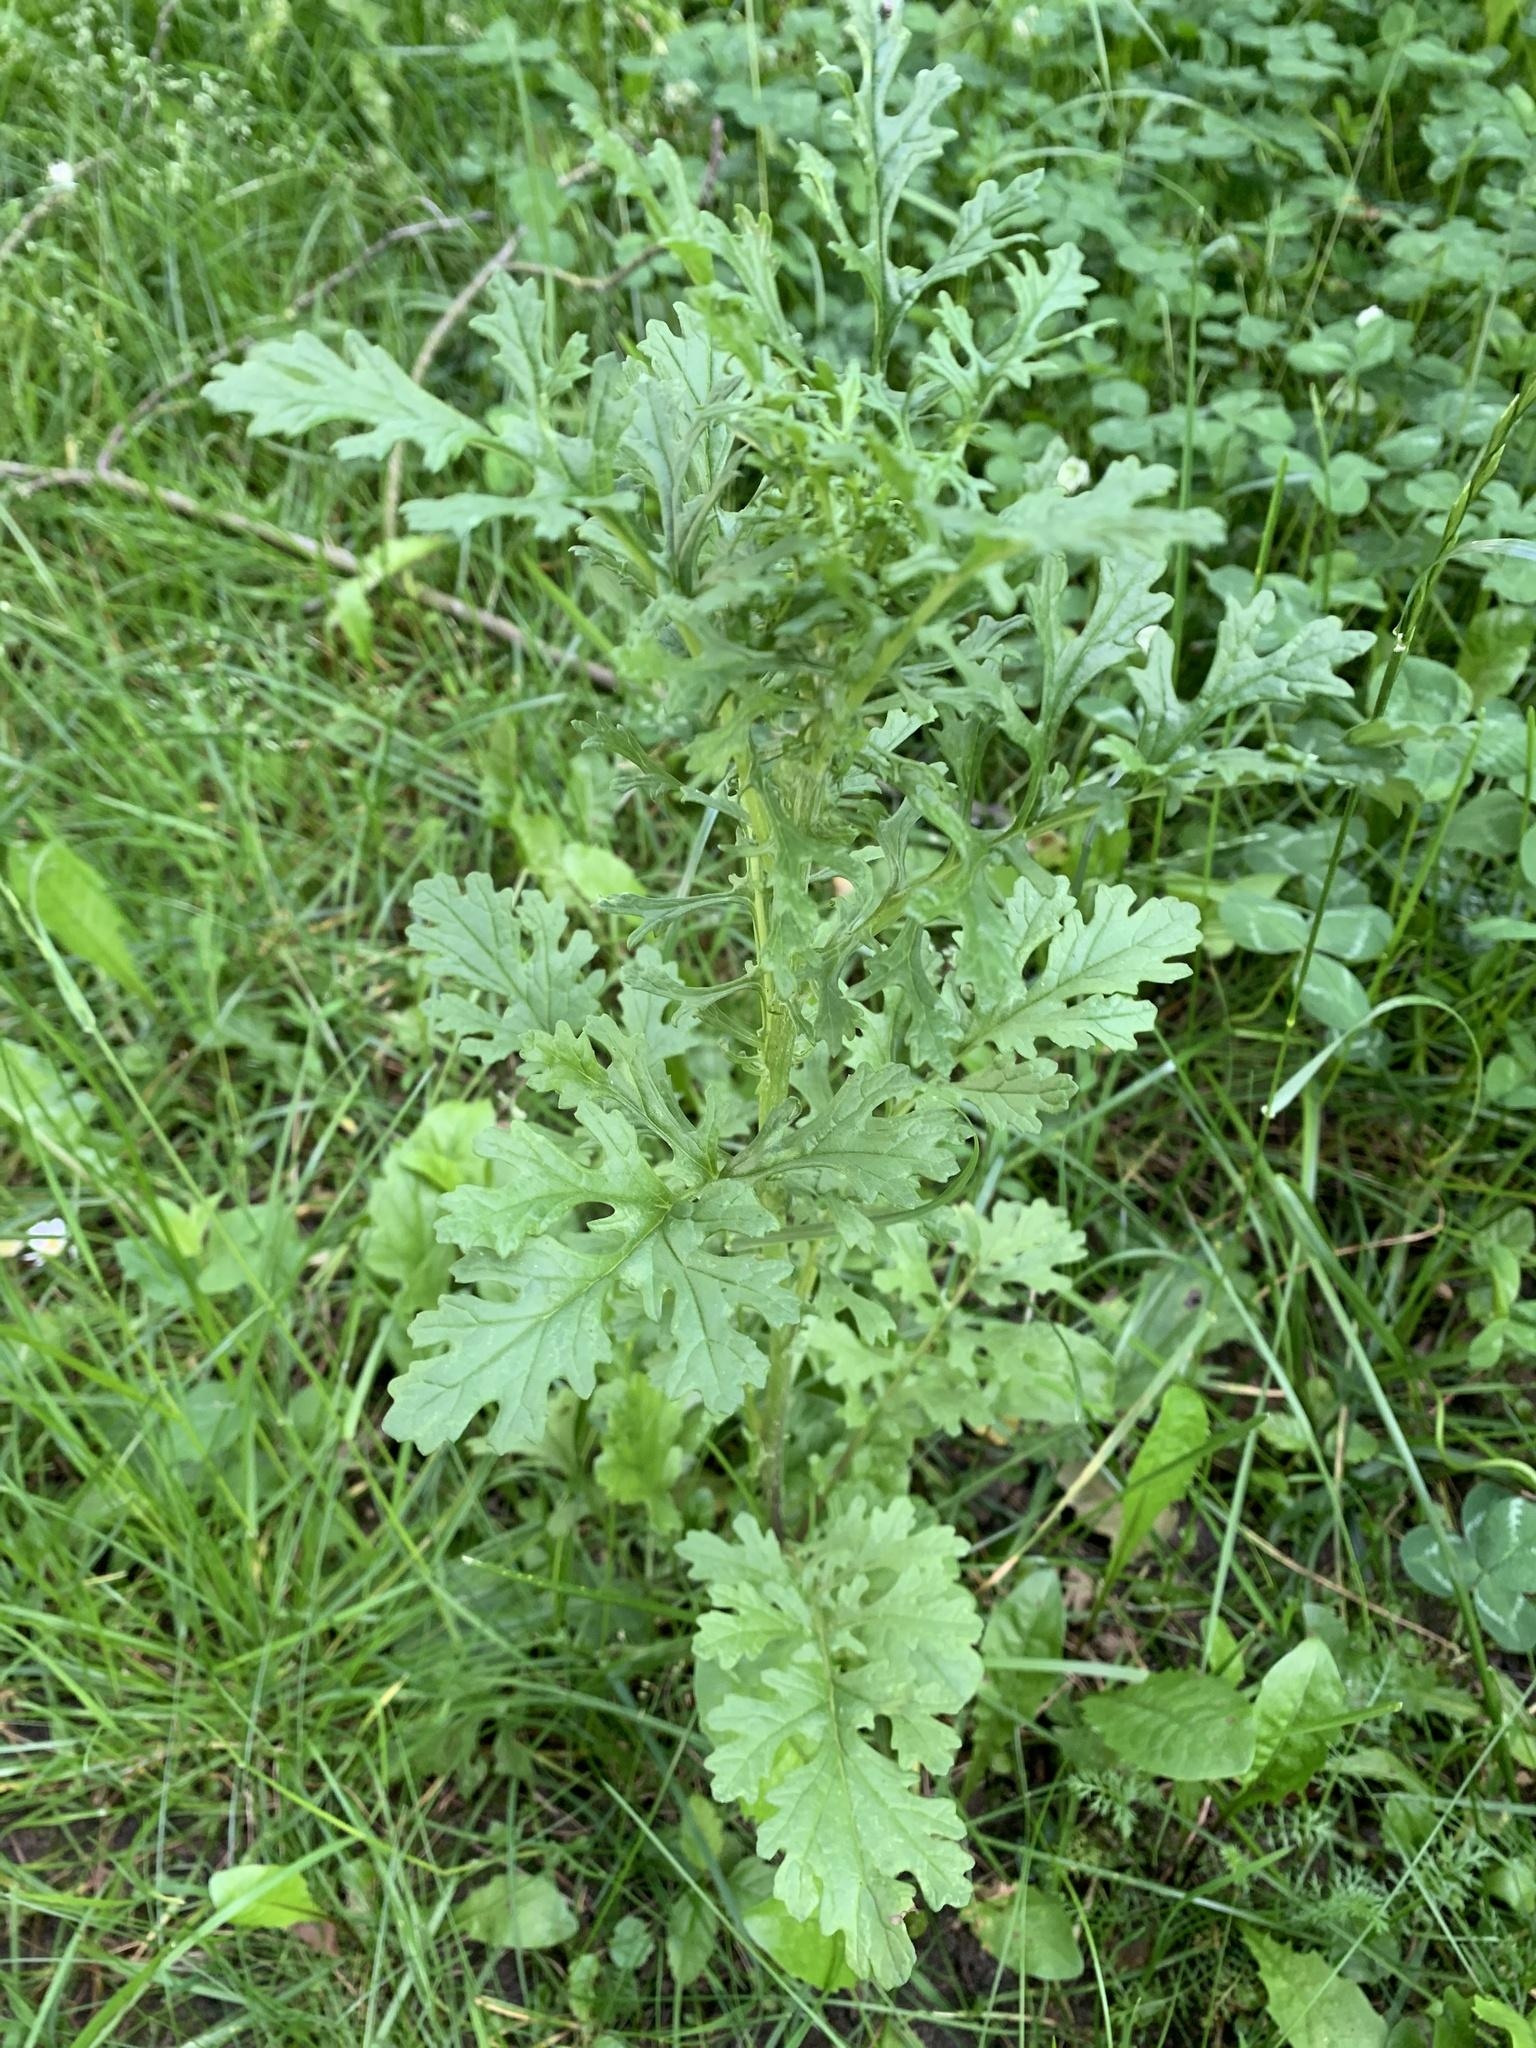Jacobaea vulgaris: (150, 206, 1176, 1974)
